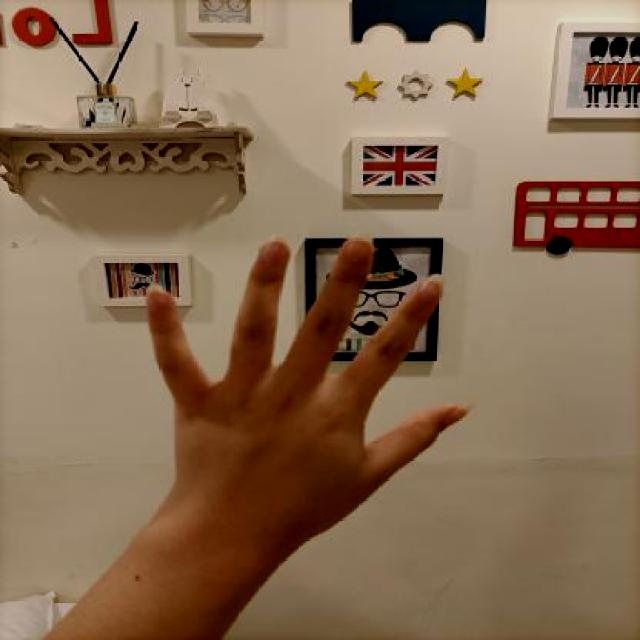no_glove: (117, 223, 492, 543)
